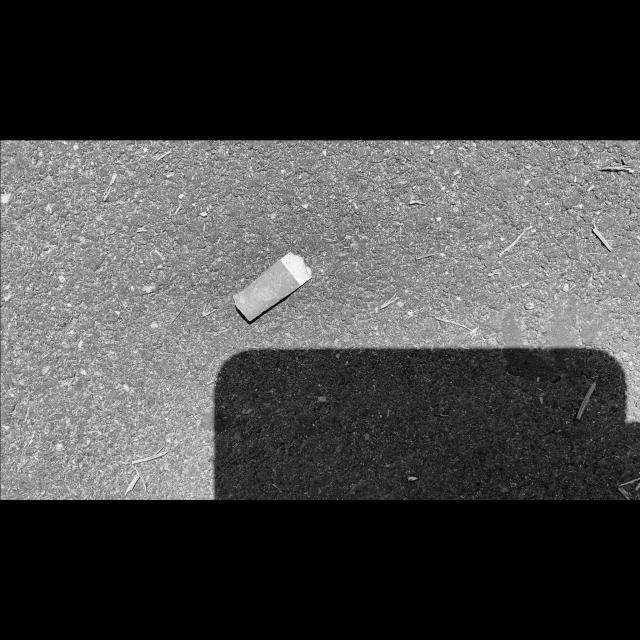cigarette: (232, 251, 312, 321)
